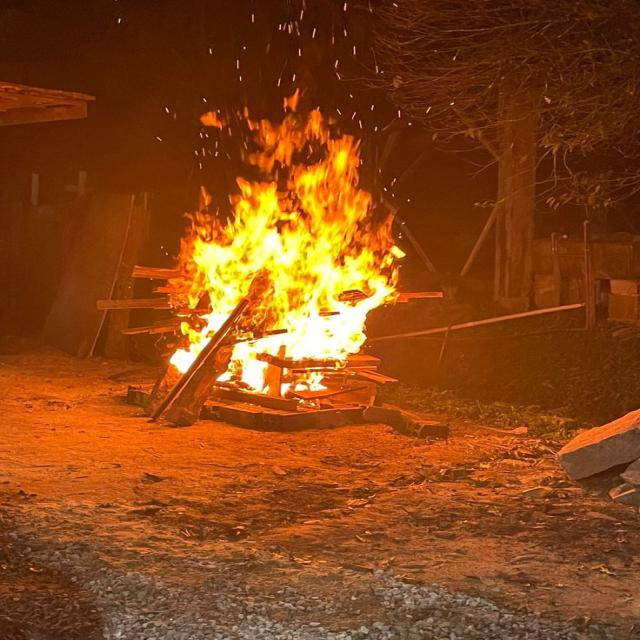fire: (179, 120, 391, 381), (218, 343, 279, 395)
